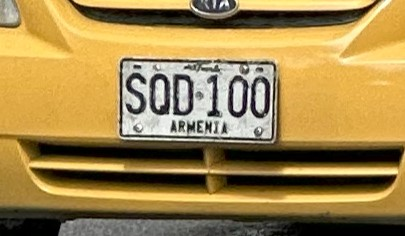number plate: (120, 59, 276, 142)
